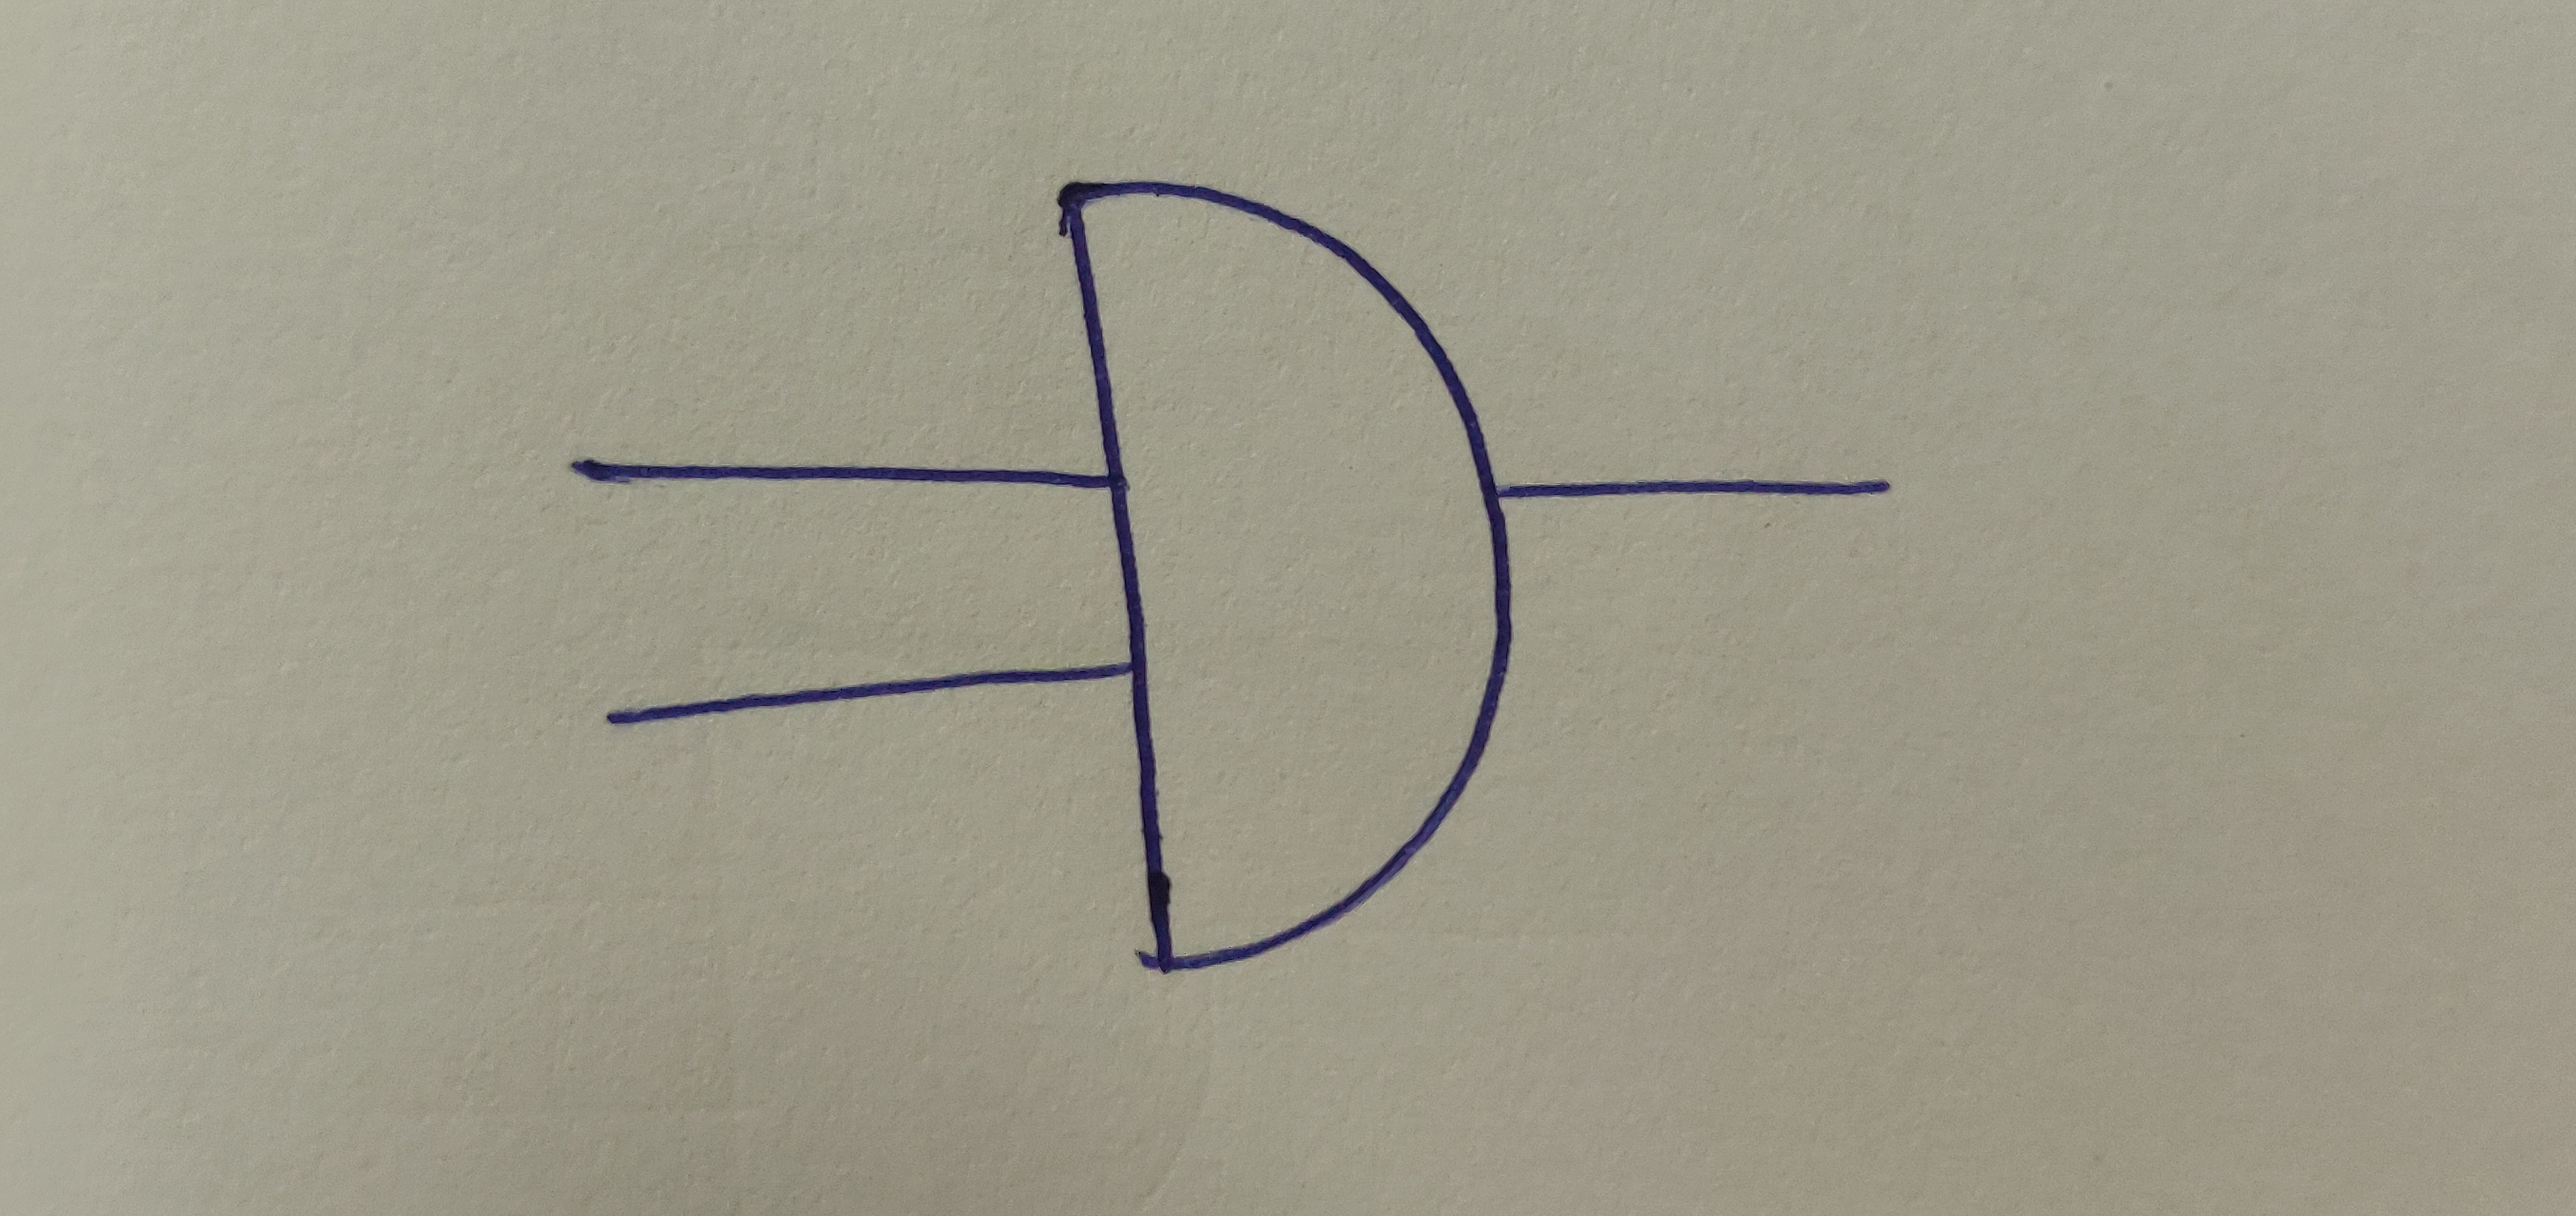and: (1053, 177, 1526, 973)
